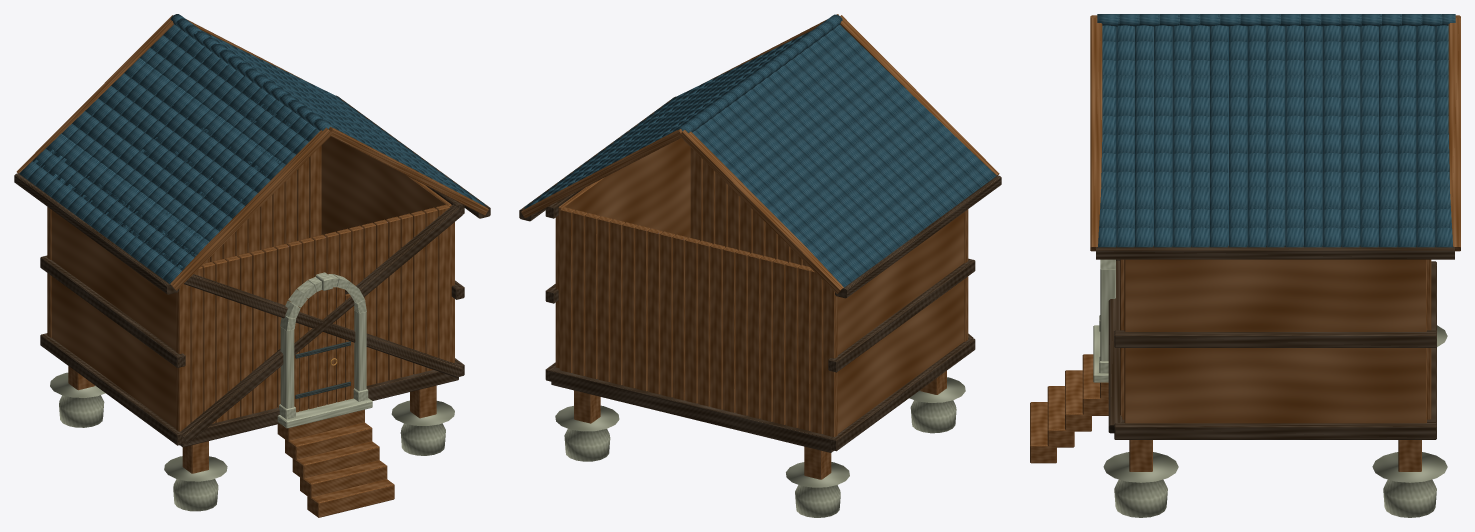
Rendered from raised_granary.glb.
3 renders of one model, left to right at view 1: azimuth 30°, elevation 25°; view 2: azimuth 150°, elevation 25°; view 3: azimuth 270°, elevation 25°, orthographic. The views are drawn at different scales.
Visible parts, largest first — view 1: raised_granary.002; view 2: raised_granary.002; view 3: raised_granary.002.
Boxes of the visible parts, x1,y1,x2,y2 form: raised_granary.002: [14, 14, 490, 517]; raised_granary.002: [519, 14, 1001, 517]; raised_granary.002: [1030, 14, 1460, 517].
Size of the model in its own units: 6.54 by 7.01 by 6.4.
Materials: 1 (1 with a texture image).
